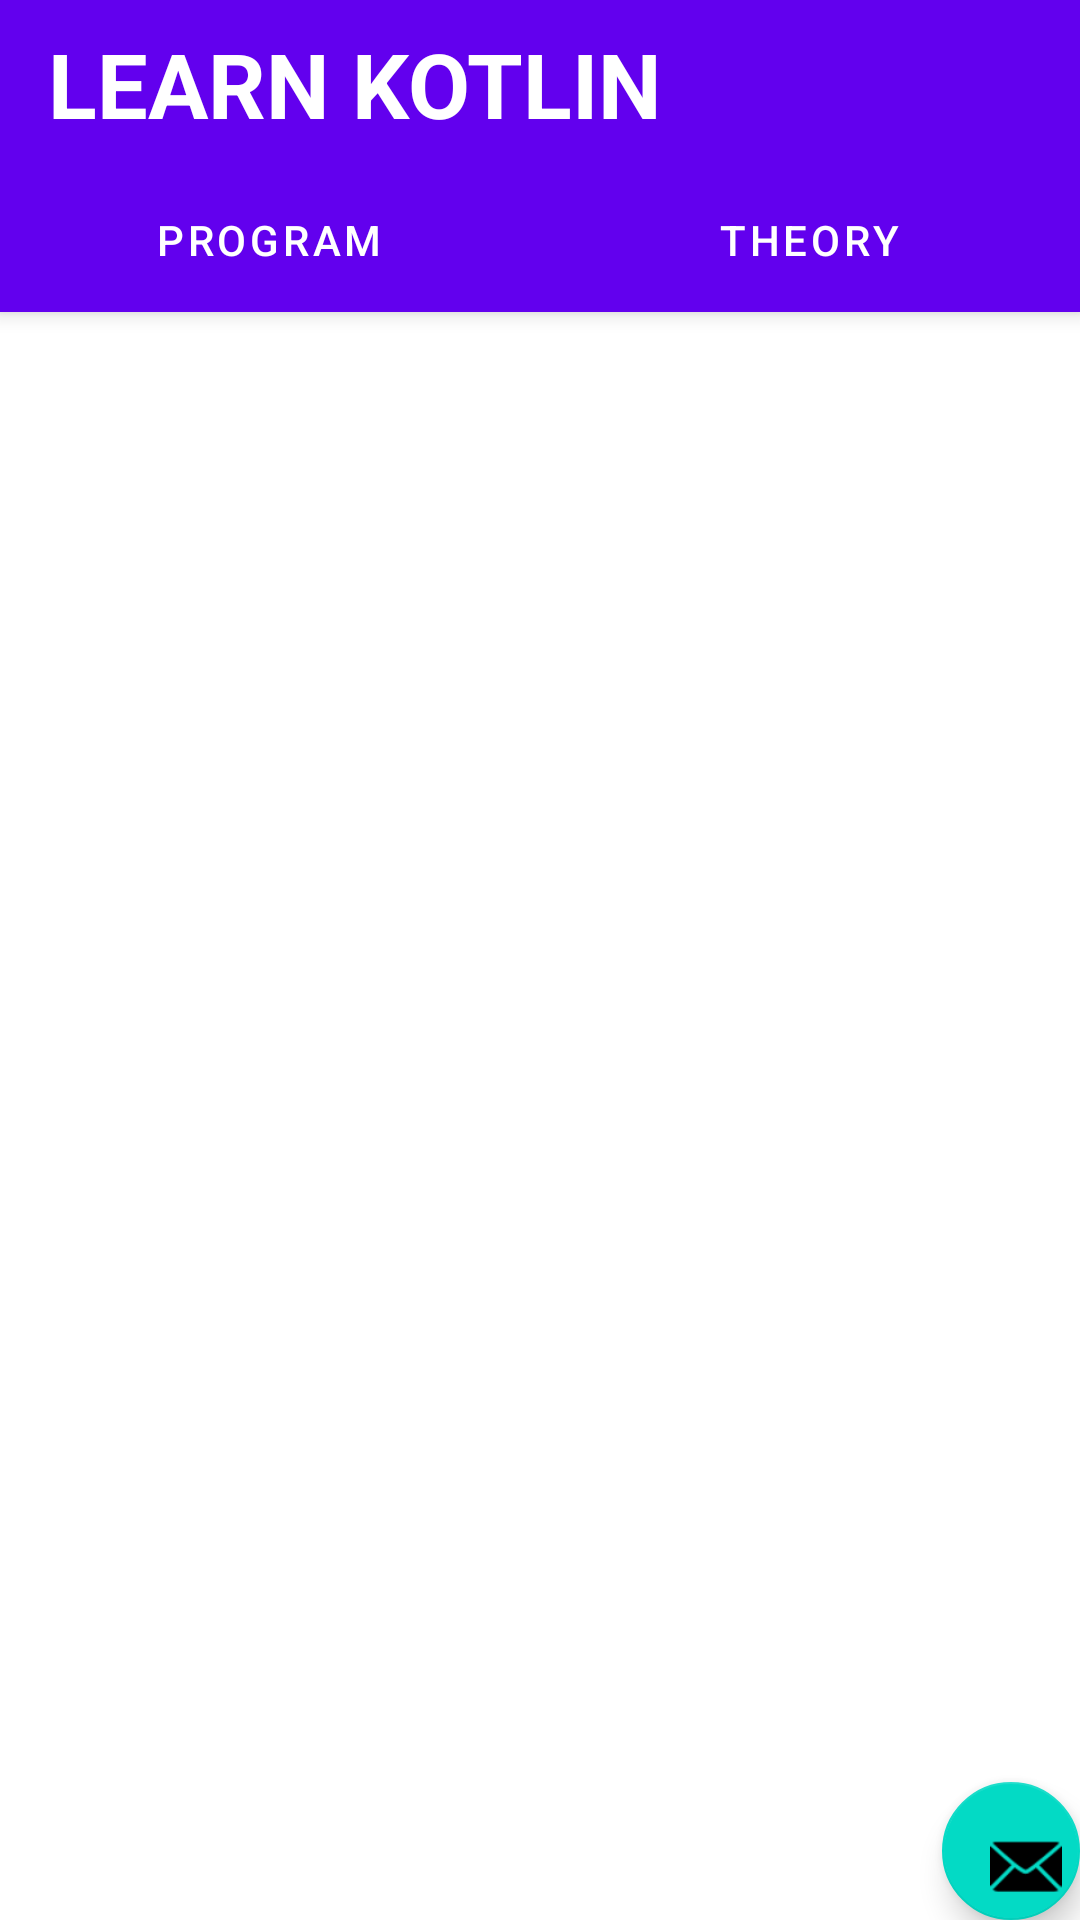

Screen size 1080*1920. Icon name, then its center in pixels as point (x, y):
email: point (1011, 1851)
